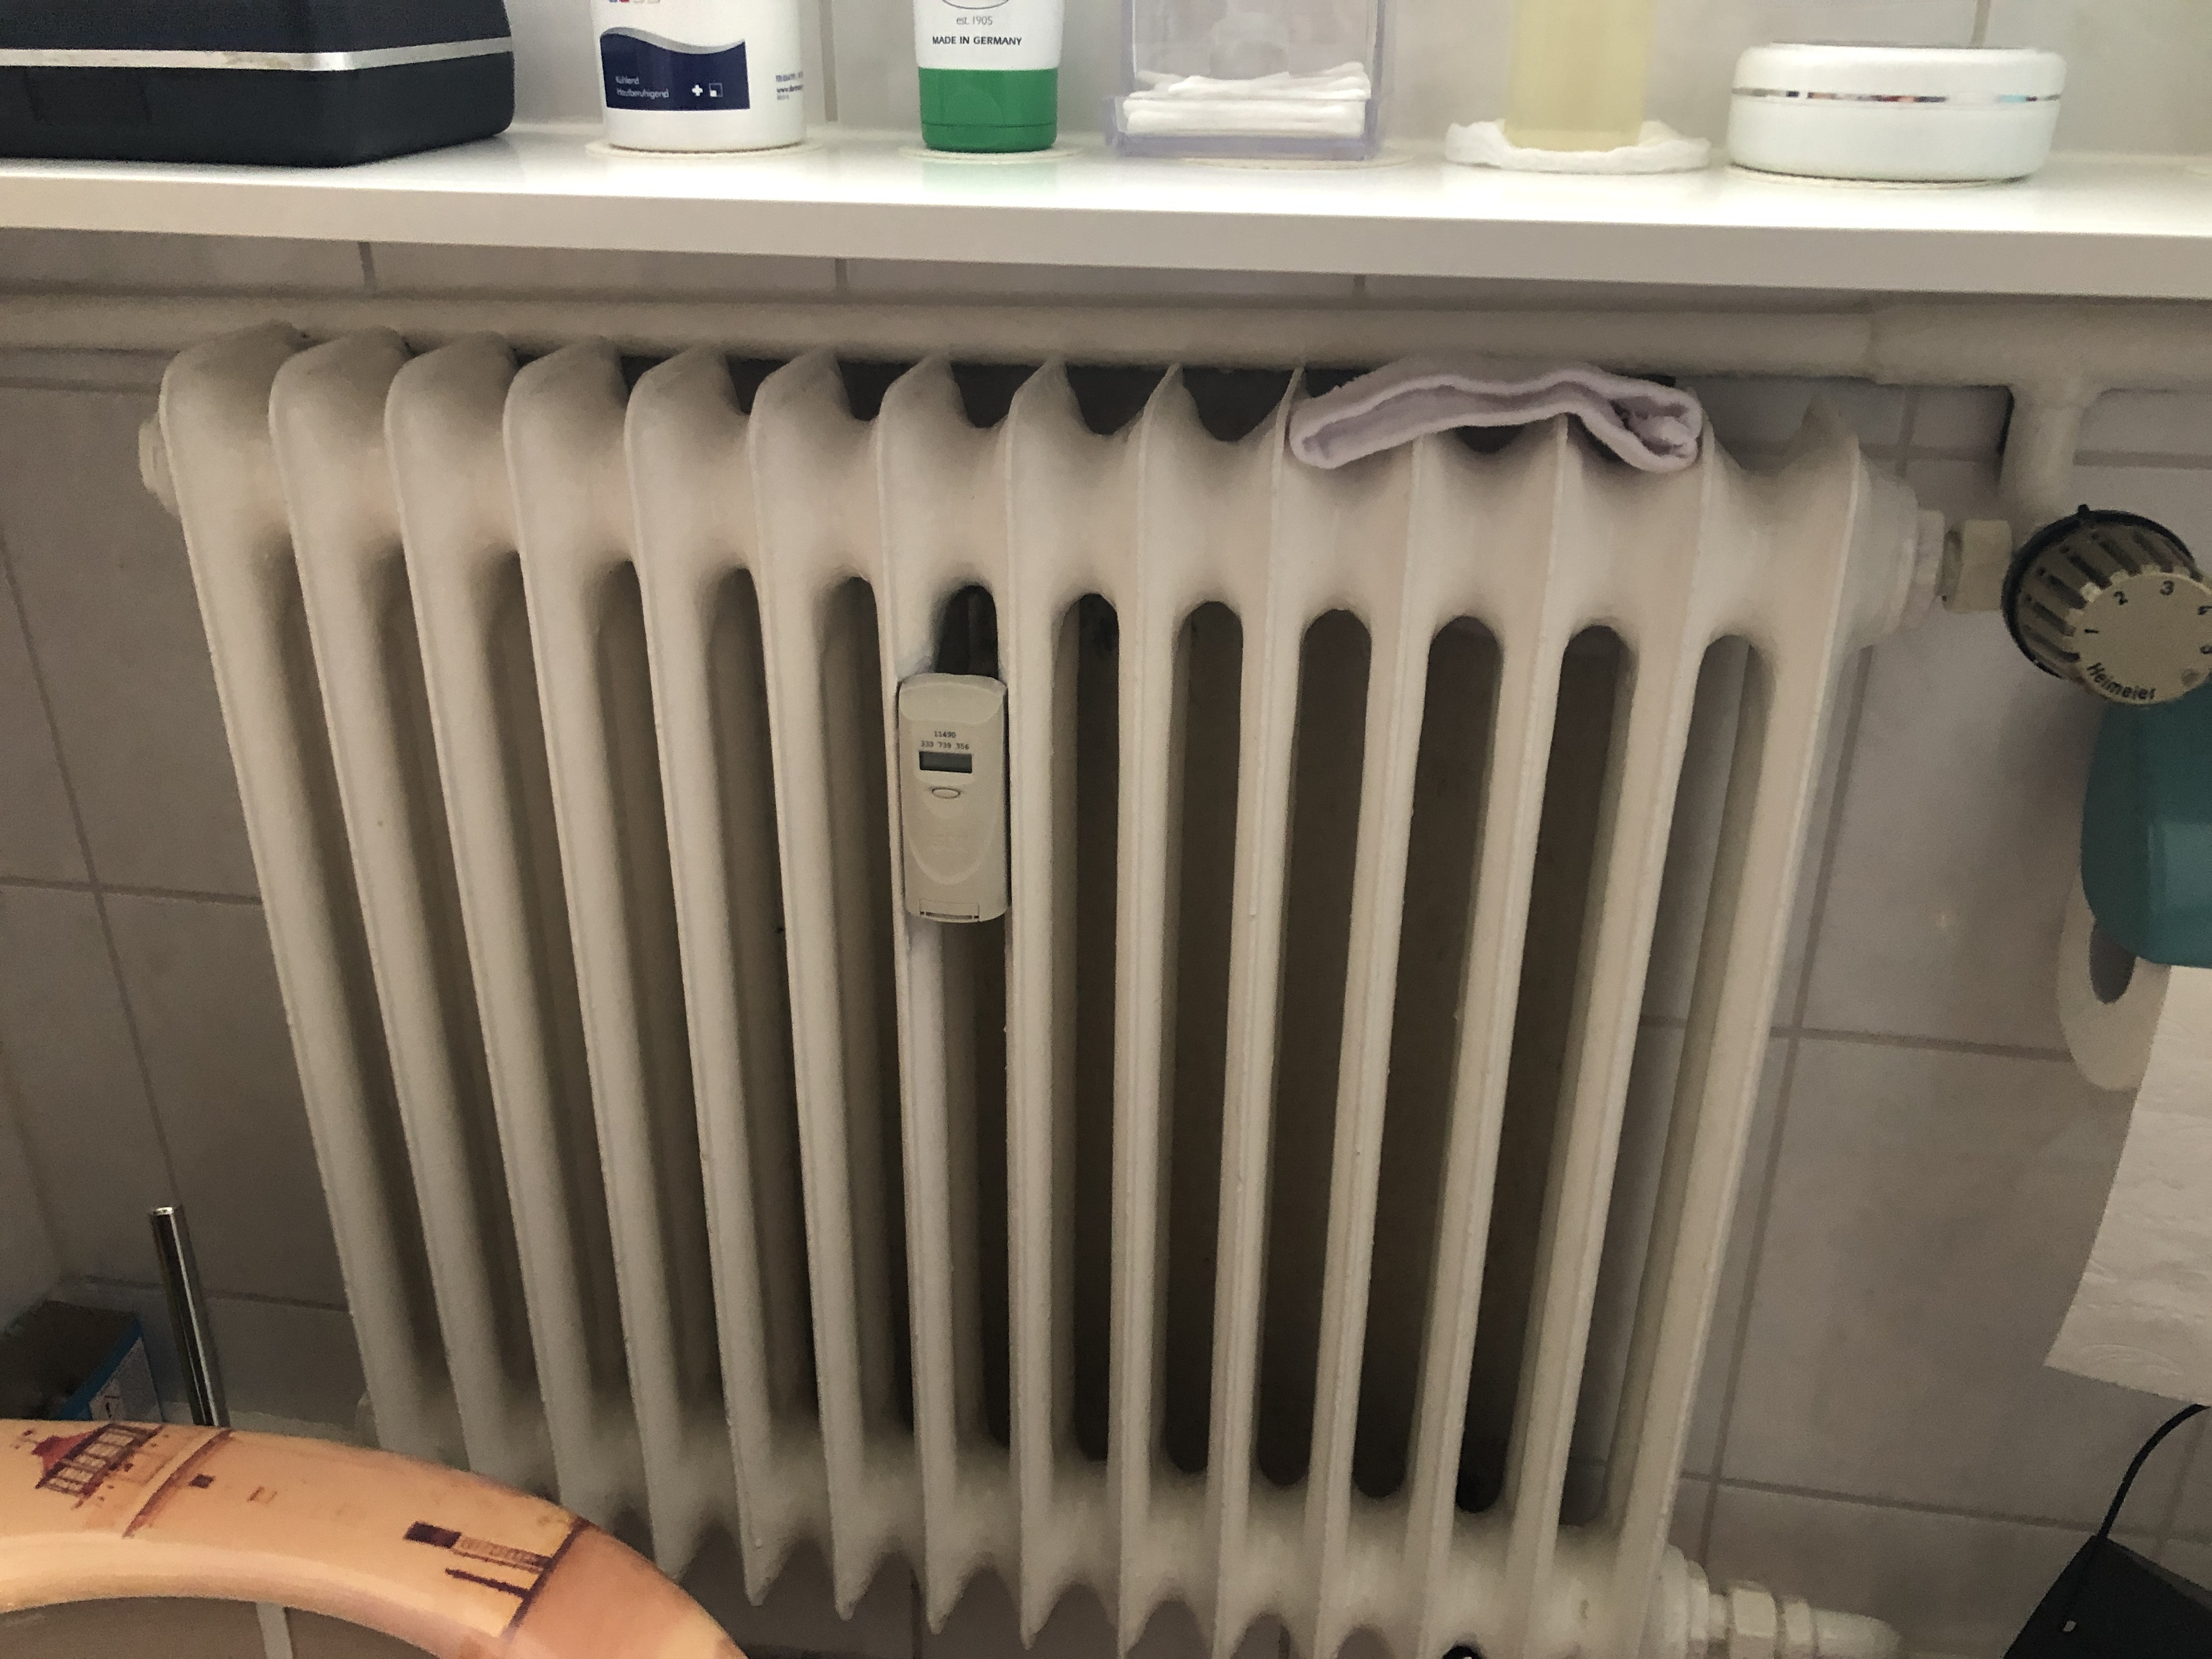Radiator: (111, 281, 2212, 1657)
